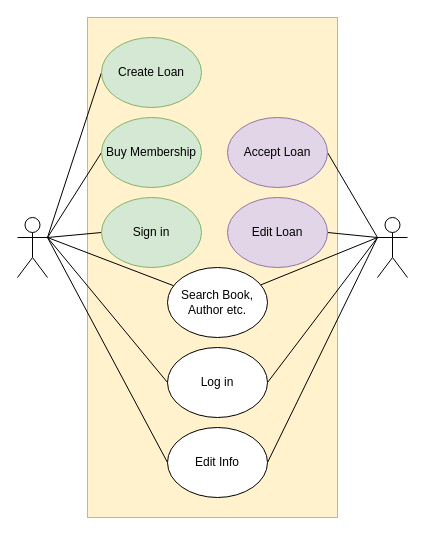
Image size: 425x535. Some labels were removed from this diagram. The shapes that lost their labels are listed below. From the top down, each one's box as (x1, y1, x2, y2) in pixels, then its label:
(16, 216, 48, 278): User
(376, 216, 408, 278): Staff
